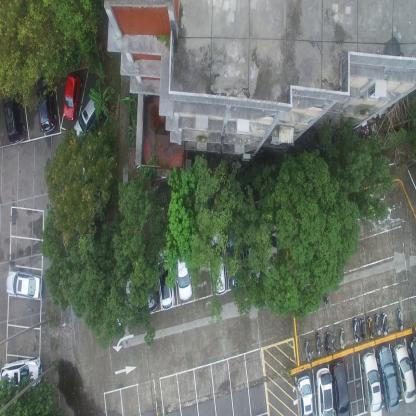car: (377, 344, 400, 414), (2, 79, 26, 145), (0, 356, 43, 392), (74, 91, 103, 140), (360, 351, 382, 415), (393, 344, 416, 404), (35, 76, 57, 132), (210, 227, 227, 296), (5, 270, 43, 300), (157, 250, 175, 309), (140, 259, 159, 314), (331, 360, 350, 415), (175, 243, 193, 301), (62, 72, 83, 121), (264, 222, 280, 284), (228, 230, 245, 288), (315, 366, 334, 415), (247, 222, 262, 283), (123, 262, 138, 320), (296, 374, 314, 415), (408, 336, 415, 384)
